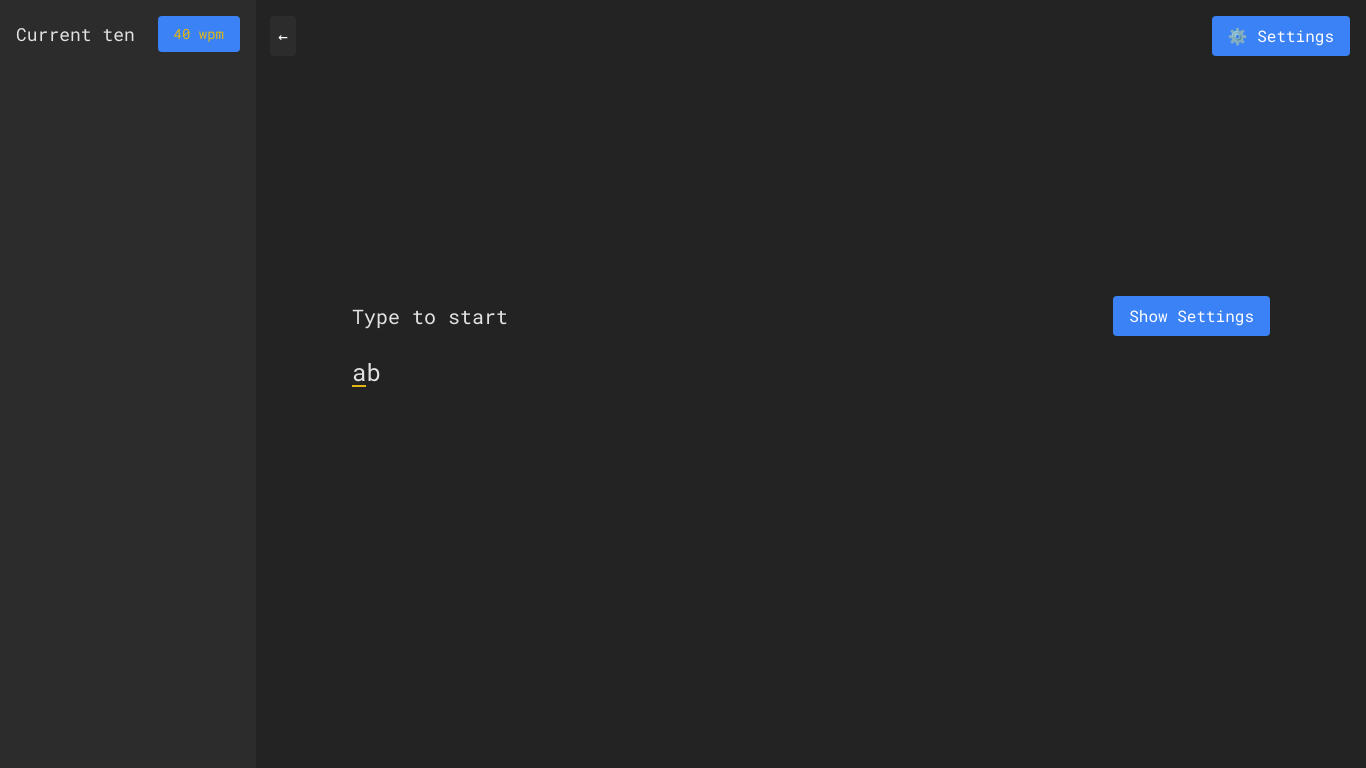
it: keyboard layout toggle in Settings › unchecking the box hides the keyboard layout strip
The width and height of the screenshot is (1366, 768).
Click the button "⚙️ Settings" at {"x": 1281, "y": 36}, box x1=1212 y1=16 x2=1350 y2=56
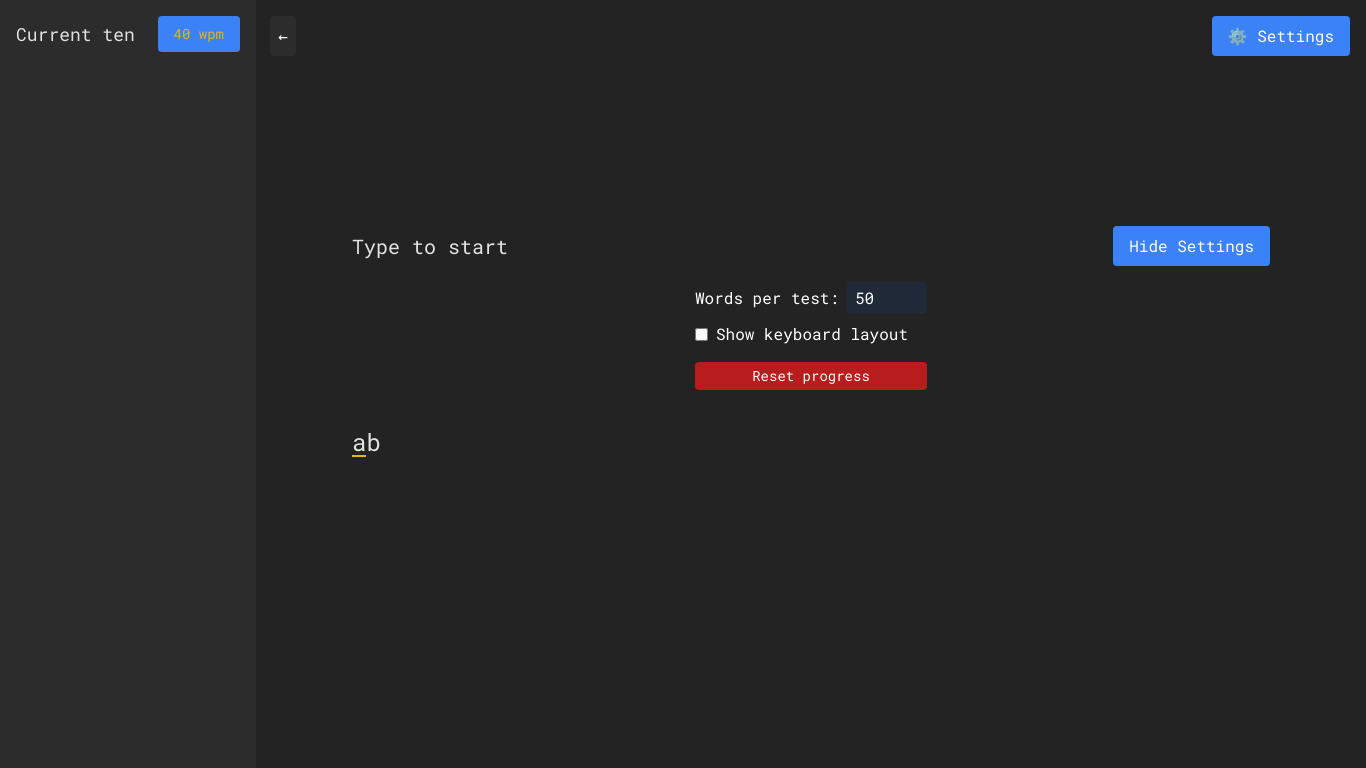
Click the checkbox with test id "show-keyboard-layout" at {"x": 702, "y": 334}, box x1=695 y1=328 x2=708 y2=340
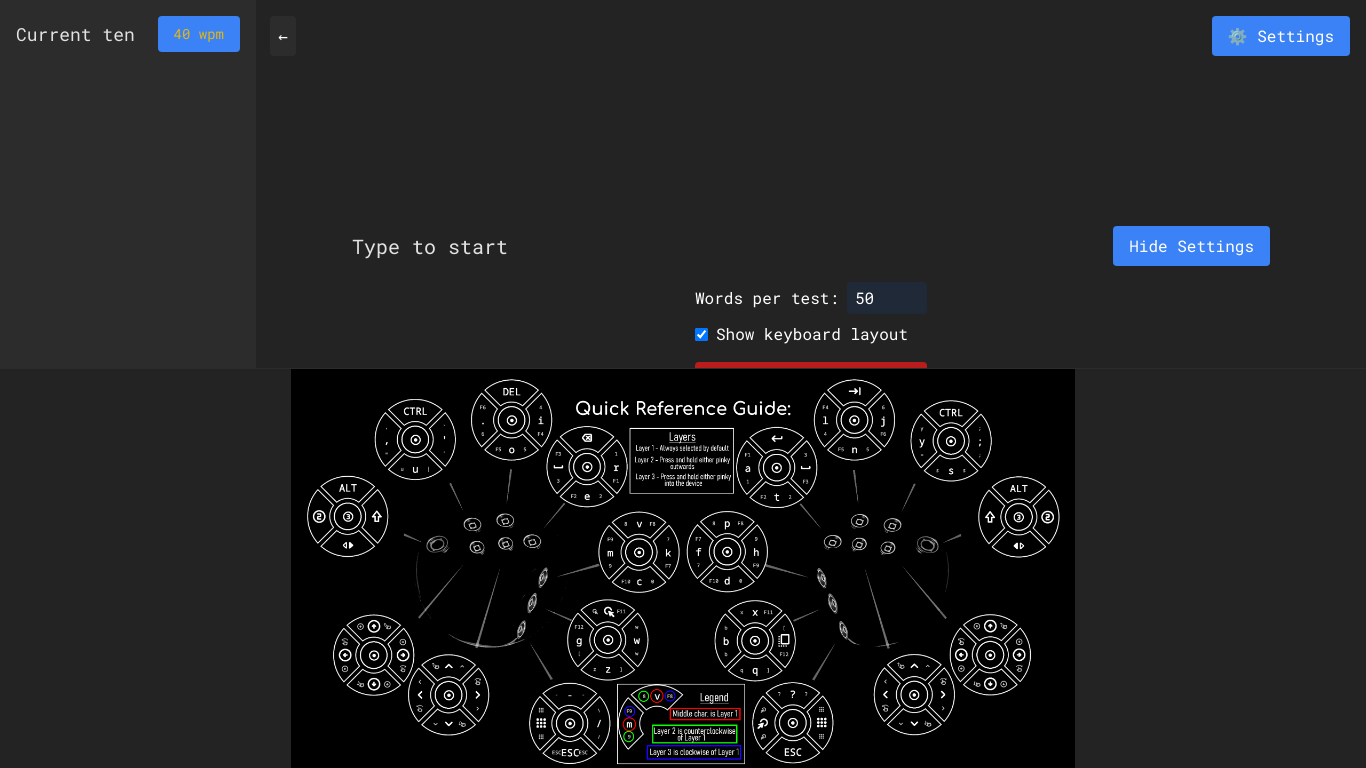
Expected: the element with class "keyboard-layout-strip" is shown, x1=0 y1=368 x2=1365 y2=767
Click the checkbox with test id "show-keyboard-layout" at {"x": 702, "y": 334}, box x1=695 y1=328 x2=708 y2=340
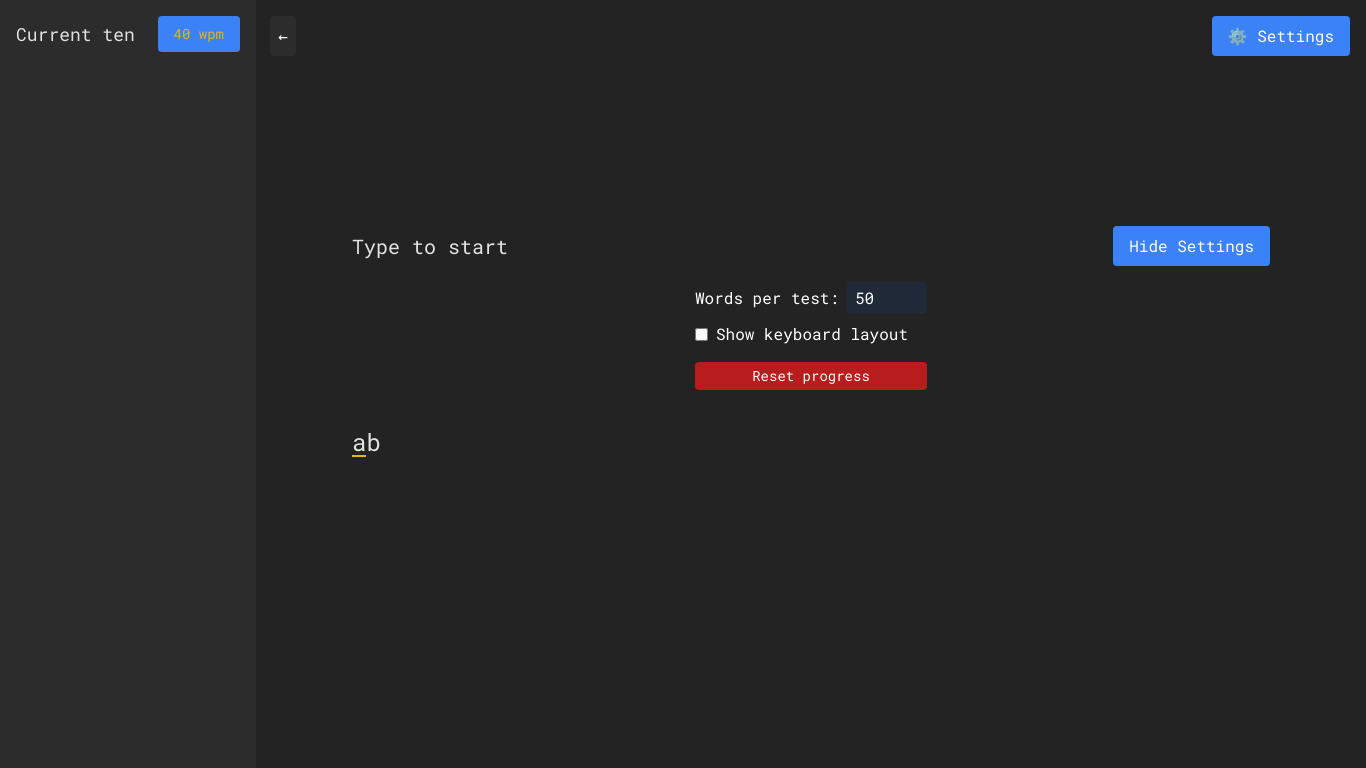
Expected: the element with class "keyboard-layout-strip" is gone
